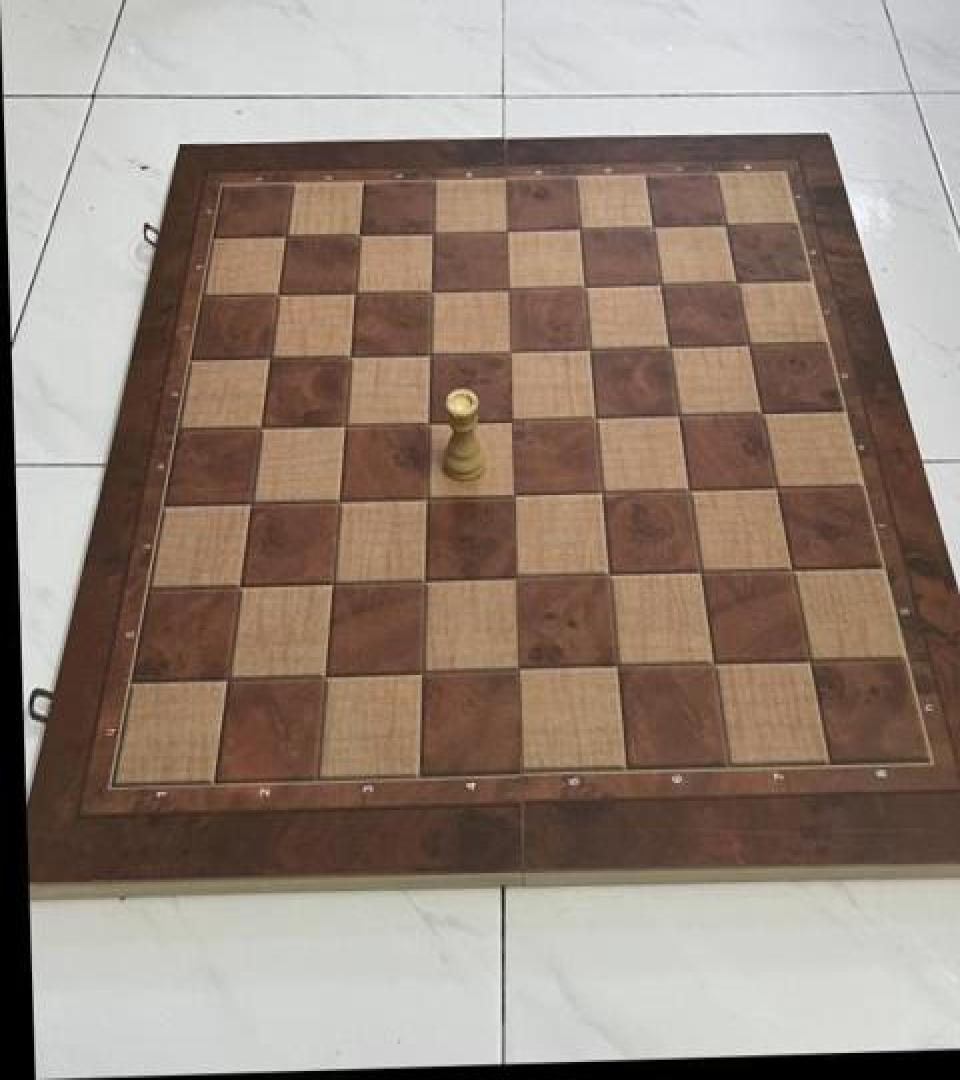xcorner: (575, 400, 609, 439), (404, 562, 438, 601), (790, 642, 824, 681), (499, 650, 533, 689), (708, 207, 742, 245), (634, 210, 668, 248), (560, 212, 594, 250), (487, 214, 521, 252), (413, 216, 447, 254), (340, 218, 374, 256), (266, 220, 300, 258), (719, 264, 753, 302), (642, 267, 676, 305), (565, 269, 599, 307), (488, 271, 522, 309), (412, 274, 446, 312), (335, 277, 369, 315), (259, 279, 293, 317), (731, 328, 765, 366), (650, 330, 684, 368), (570, 332, 604, 370), (490, 334, 524, 372), (410, 336, 444, 374), (330, 340, 364, 378), (251, 342, 285, 380), (743, 395, 777, 433), (659, 398, 693, 436), (492, 403, 526, 441), (408, 405, 442, 443), (325, 408, 359, 446), (242, 411, 276, 449), (757, 470, 791, 508), (669, 472, 703, 510), (582, 475, 616, 513), (494, 478, 528, 516), (406, 480, 440, 518), (319, 483, 353, 521), (232, 485, 266, 523), (773, 552, 807, 590), (680, 555, 714, 593), (588, 557, 622, 595), (496, 560, 530, 598), (313, 565, 347, 603), (221, 567, 255, 605), (693, 646, 727, 684), (595, 648, 629, 686), (402, 654, 436, 692), (306, 656, 340, 694), (210, 658, 244, 696)
